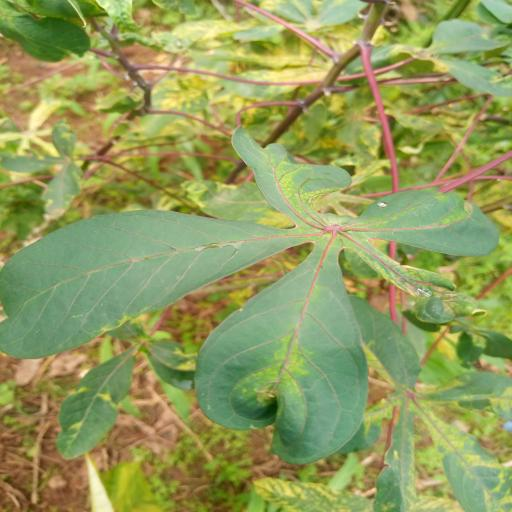Cassava_Mosaic: (2, 130, 497, 462)
